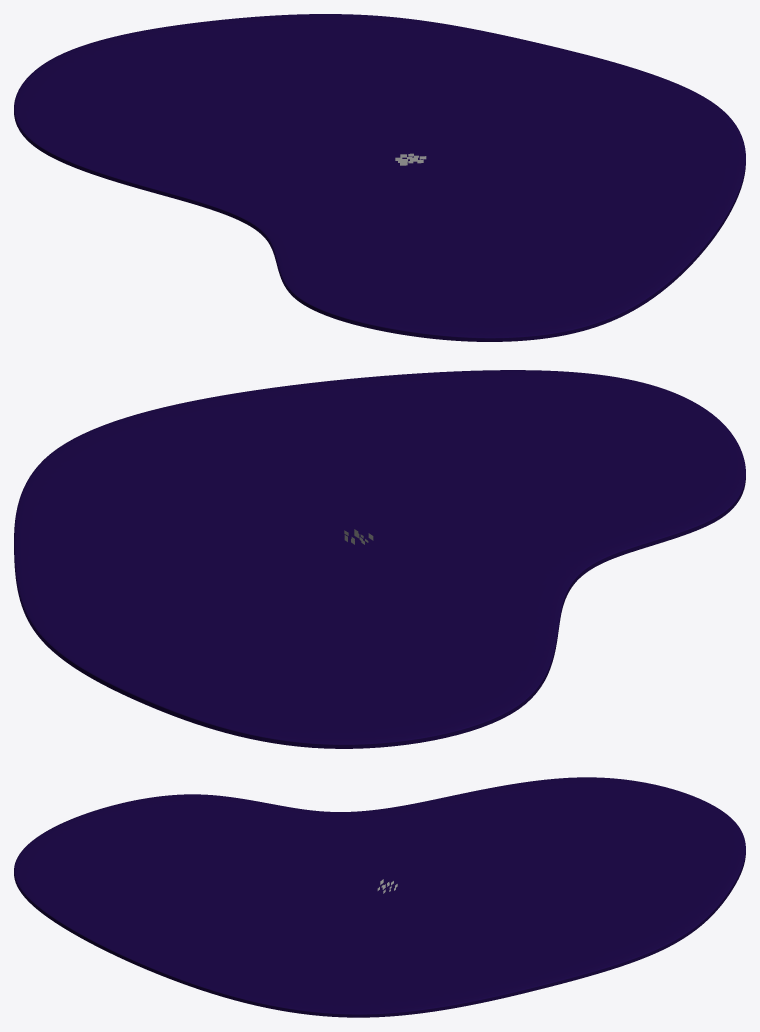
File: jellybean.obj
The picture shows the model from 3 angles, top to bottom: view 1: azimuth 30°, elevation 25°; view 2: azimuth 150°, elevation 25°; view 3: azimuth 270°, elevation 25°; orthographic projection. The views are drawn at different scales.
Parts seen in each view (by area): view 1: JrMap10_28.008; view 2: JrMap10_28.008; view 3: JrMap10_28.008.
Boxes of the visible parts, left/top/right/bottom form: JrMap10_28.008: left=14, top=14, right=745, bottom=341; JrMap10_28.008: left=14, top=370, right=745, bottom=748; JrMap10_28.008: left=14, top=777, right=745, bottom=1017.
Bounding box in the file's own units: 112 × 2.27 × 146.
